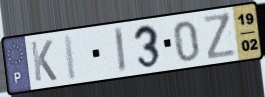0: (171, 19, 203, 63)
3: (133, 21, 166, 71)
I: (112, 25, 129, 75), (62, 33, 79, 82)
K: (29, 38, 59, 84)
Z: (201, 11, 238, 62)
